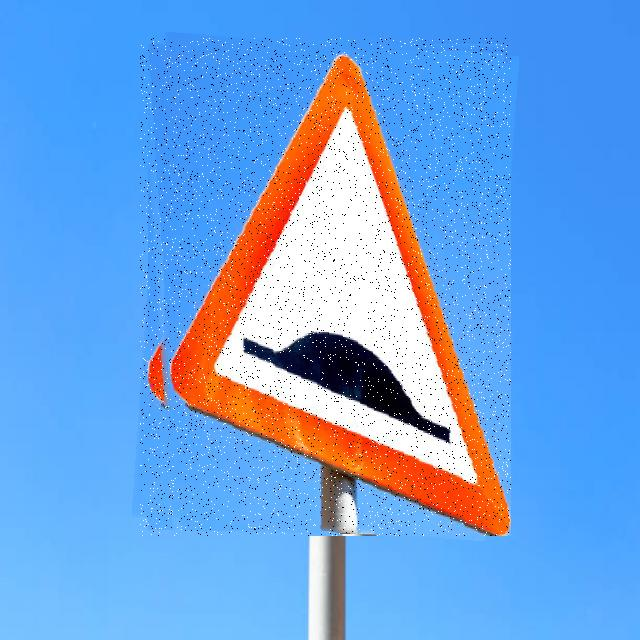hump: (140, 38, 511, 536)
